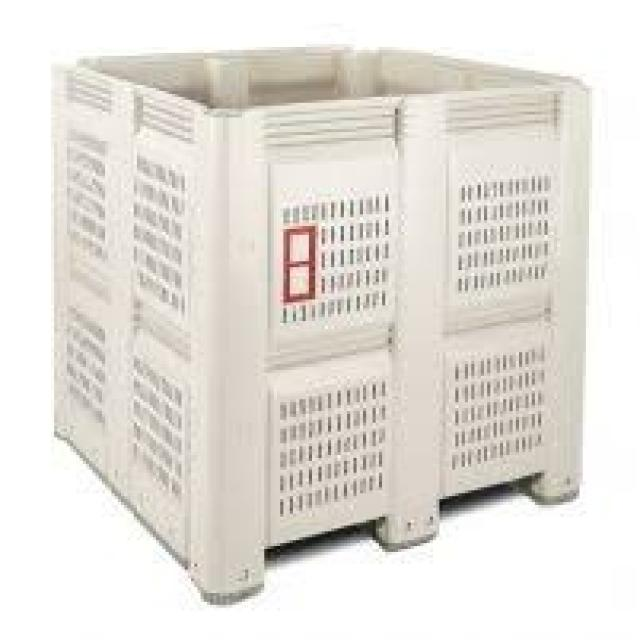basket: (54, 47, 592, 602)
